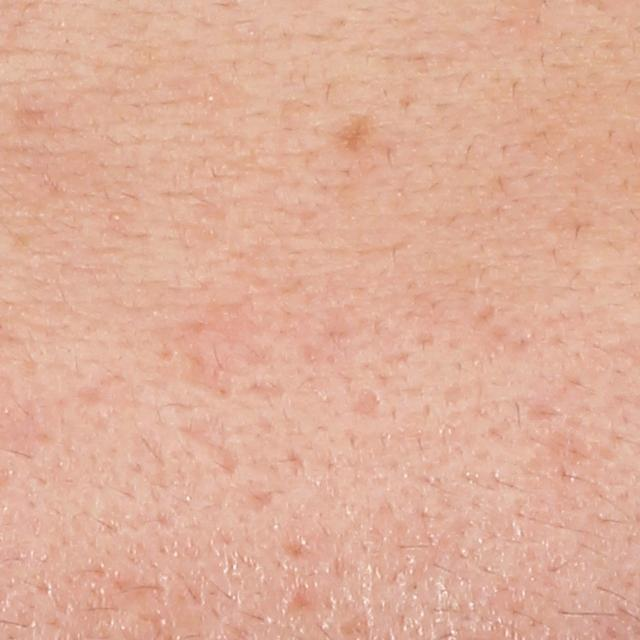atrophic_scar: (168, 336, 252, 402), (181, 300, 270, 360), (178, 416, 238, 472), (284, 585, 318, 616), (277, 539, 318, 564), (472, 300, 500, 333), (350, 391, 383, 415), (239, 381, 286, 397), (245, 488, 275, 513)
